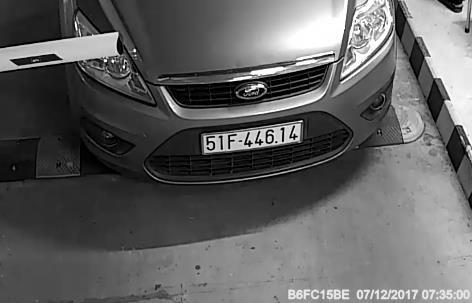License-plate: (196, 124, 310, 154)
